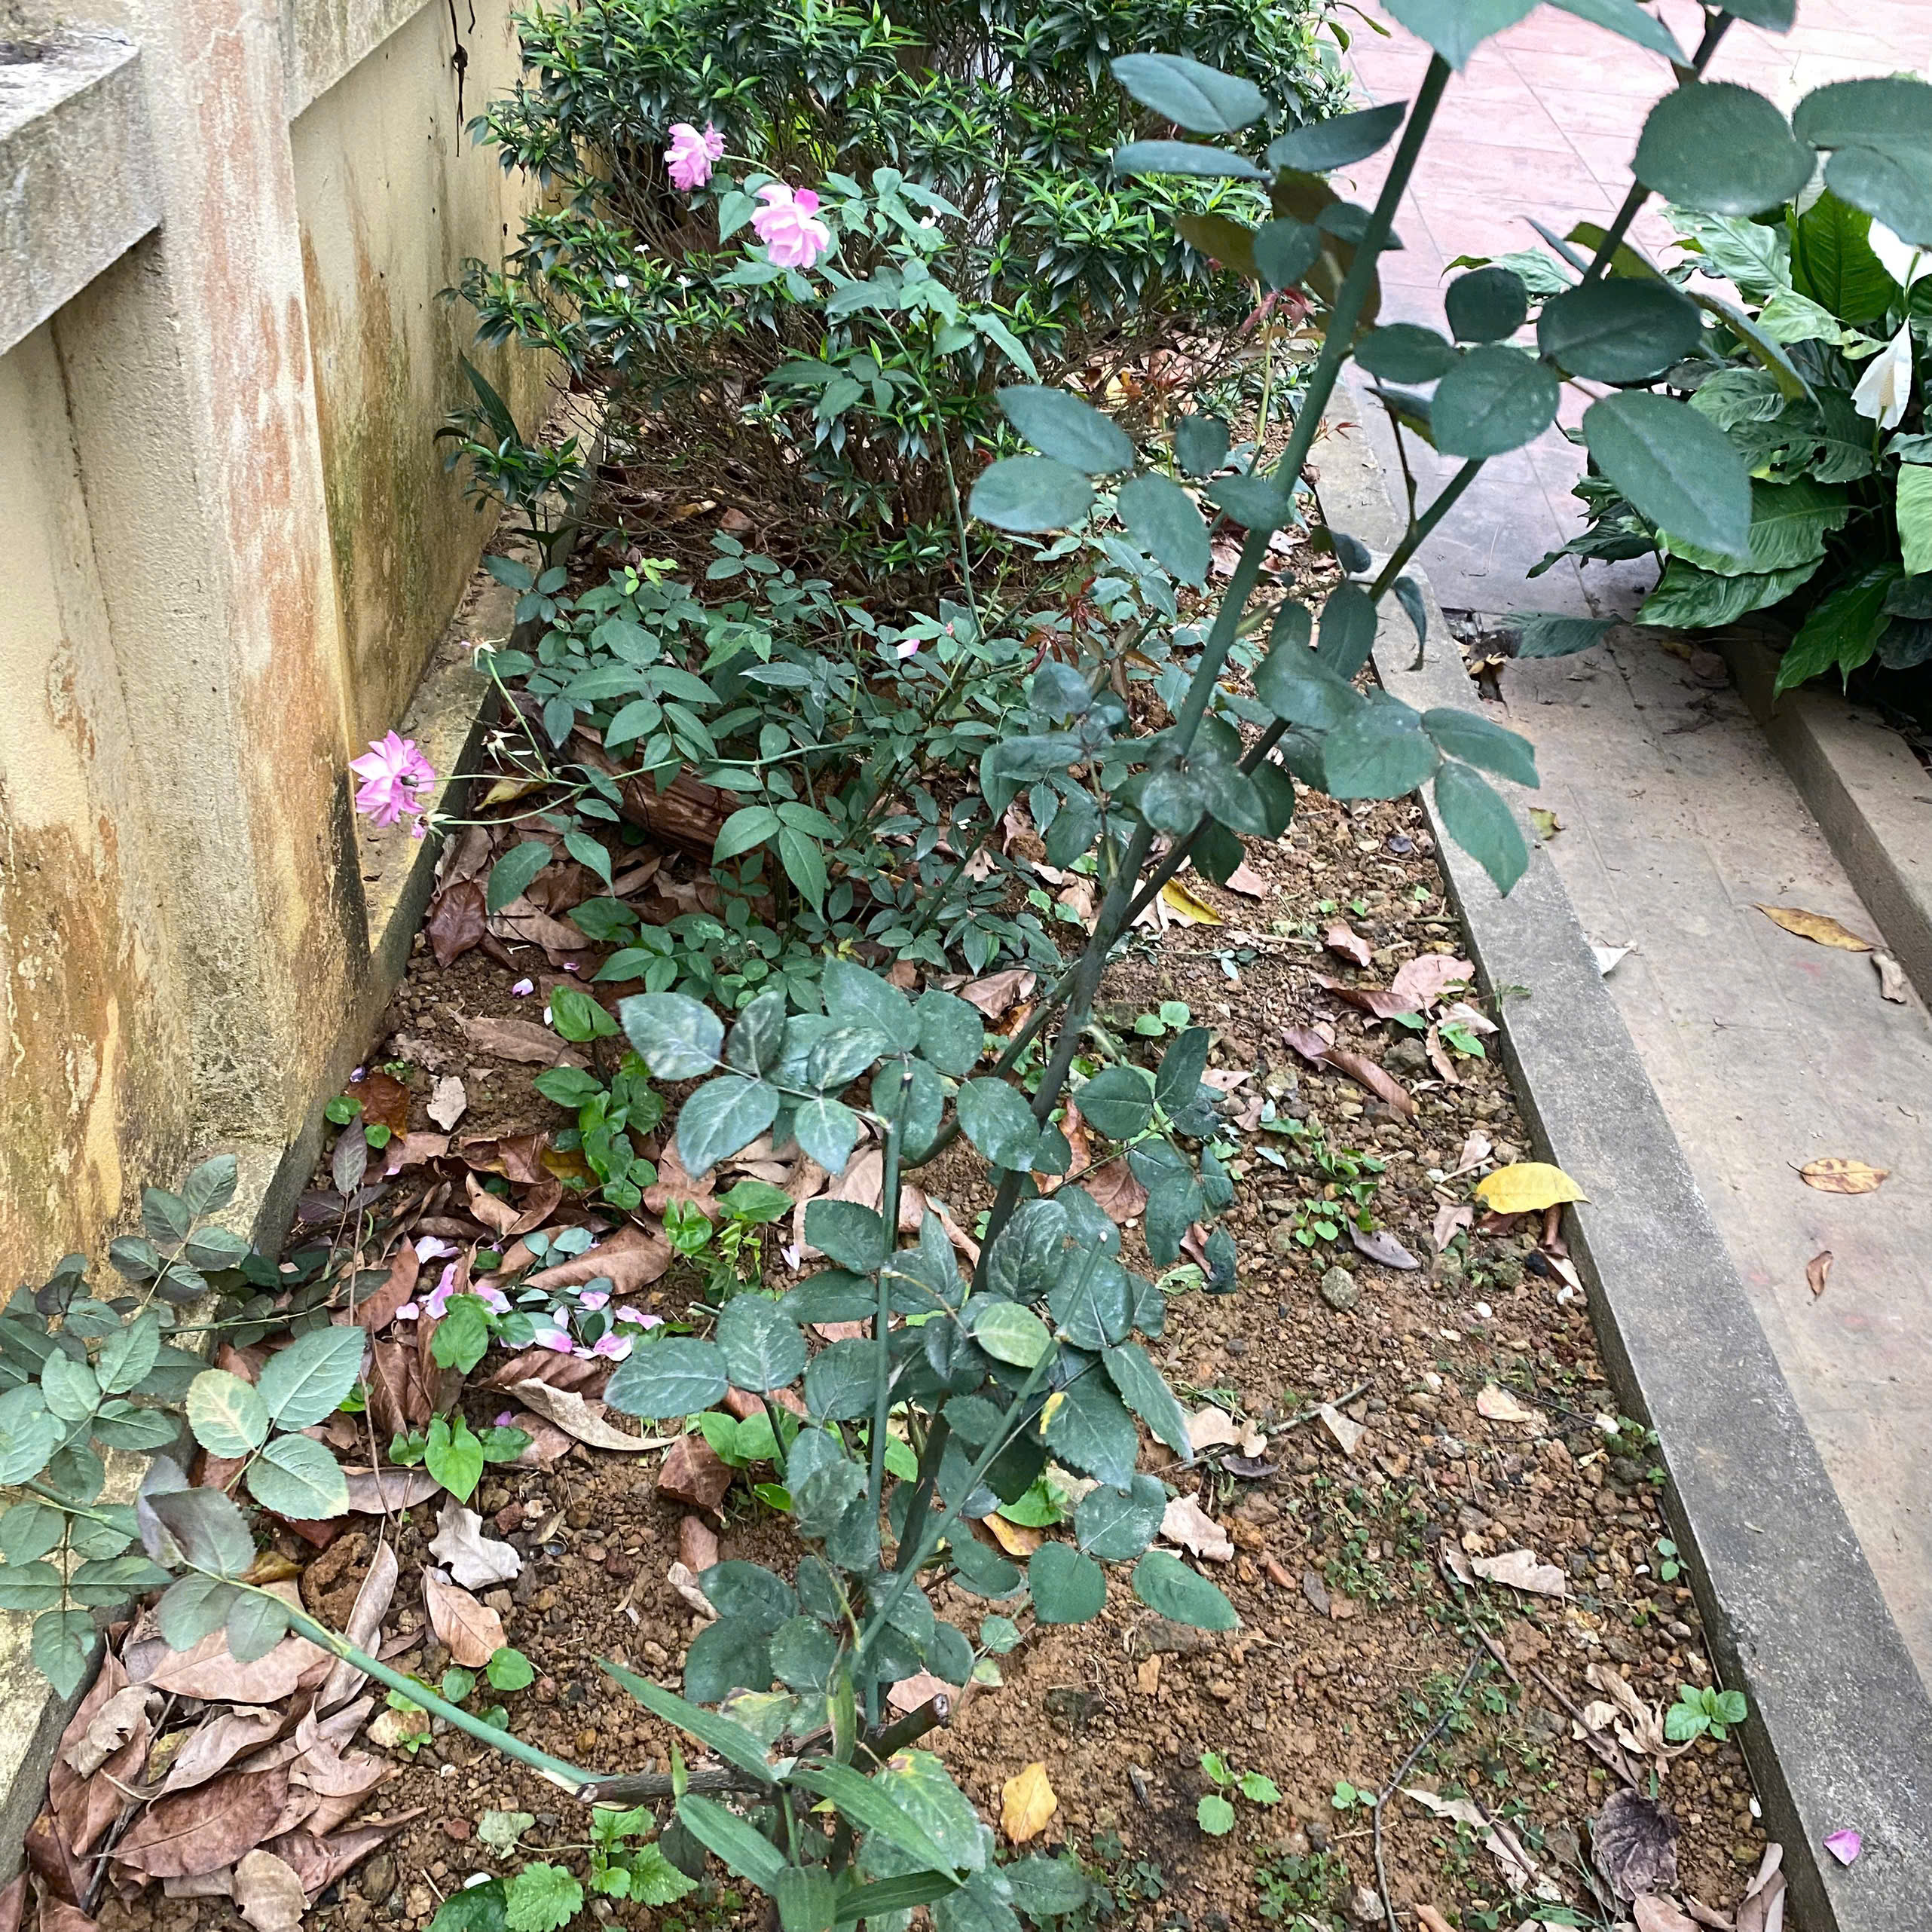hoa_hong_do: (564, 966, 1189, 1914)
